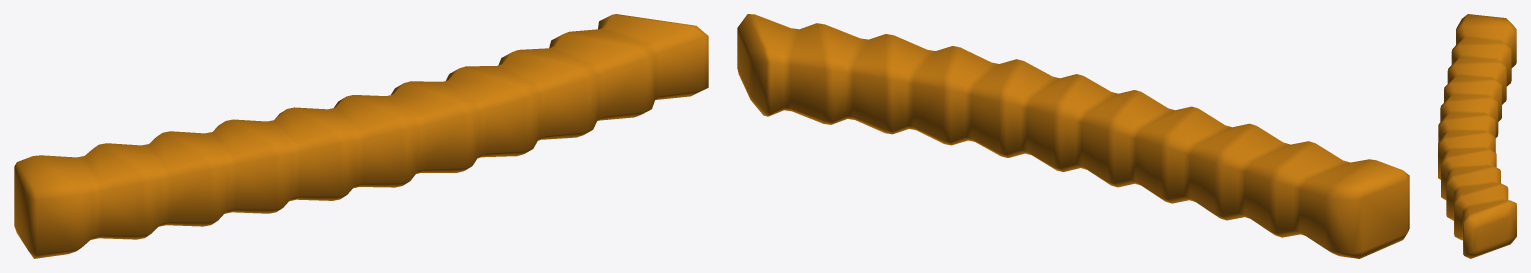
File: canesfry-simp5-5b.obj
3 renders of one model, left to right at view 1: azimuth 30°, elevation 25°; view 2: azimuth 150°, elevation 25°; view 3: azimuth 270°, elevation 25°, orthographic. The views are drawn at different scales.
Visible parts, largest first — view 1: Cube.004; view 2: Cube.004; view 3: Cube.004.
Boxes of the visible parts, box(x1,y1,x2,y2) form: Cube.004: box(14, 14, 708, 258); Cube.004: box(737, 14, 1409, 258); Cube.004: box(1438, 14, 1516, 258).
Size of the model in its own units: 5.31 by 0.5306 by 0.8582.
